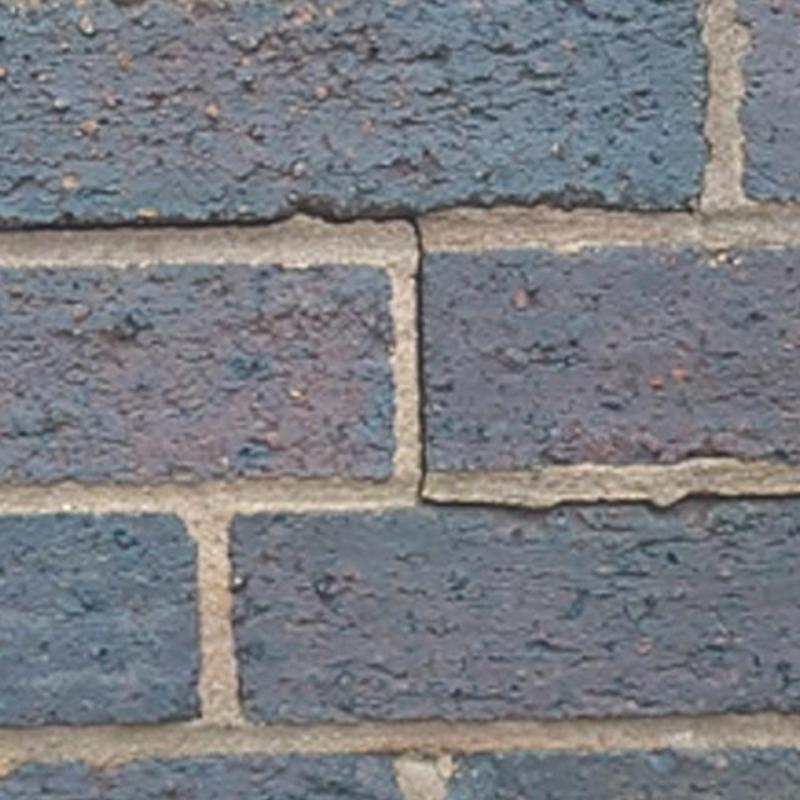pothole: (1, 207, 800, 517)
